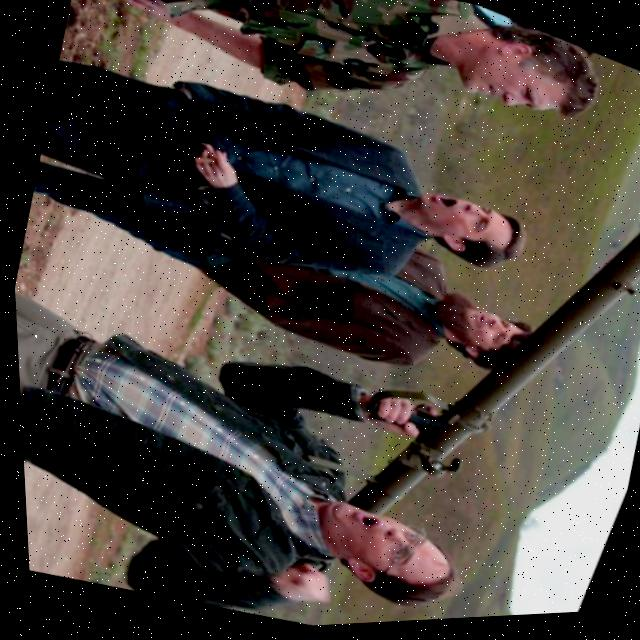rocket: (312, 135, 640, 617)
